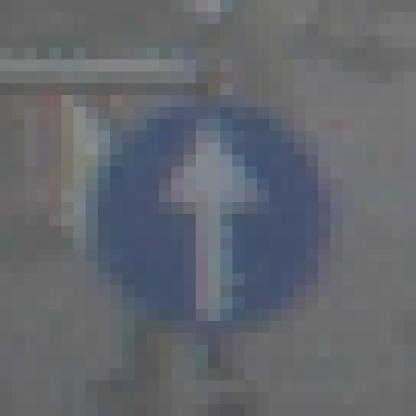AheadOnly: (62, 72, 356, 358)
